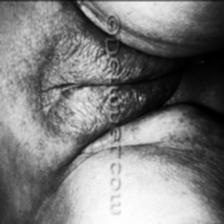Non-Cancerous Skin Condition: (40, 22, 105, 132)
